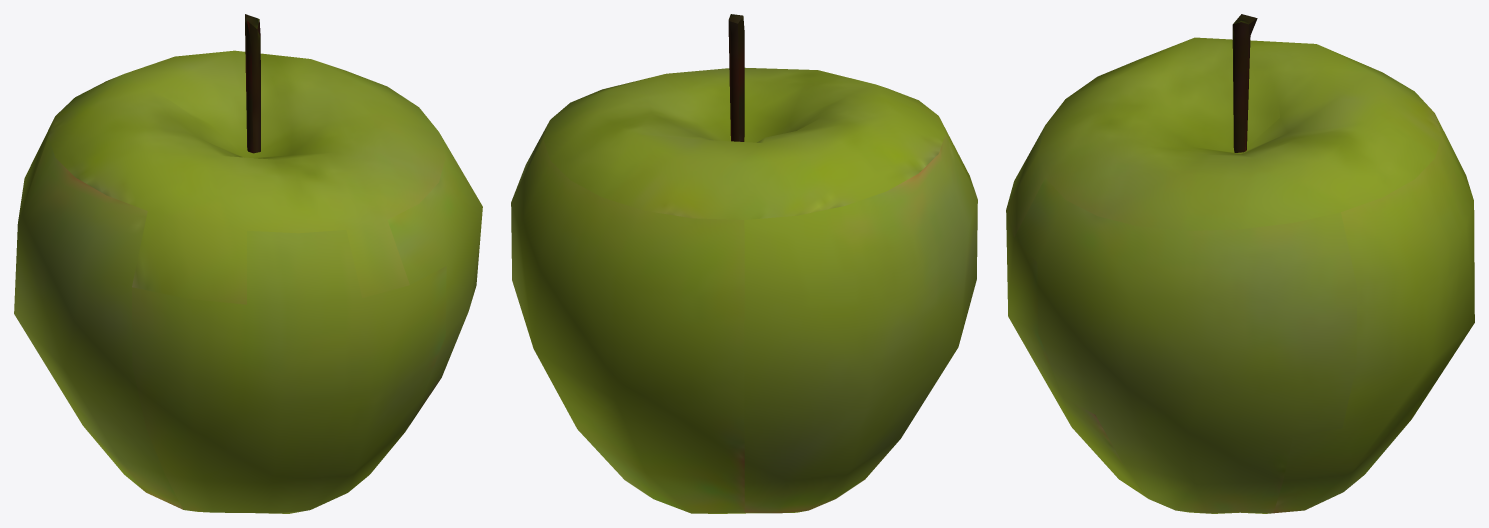
File: Sm_apple_02_1b3b9c.glb
3 views of the same model, side by side, from view 1: azimuth 30°, elevation 25°; view 2: azimuth 150°, elevation 25°; view 3: azimuth 270°, elevation 25° (orthographic).
Size of the model in its own units: 0.1208 by 0.1323 by 0.1216.
1 material, 1 textured.
